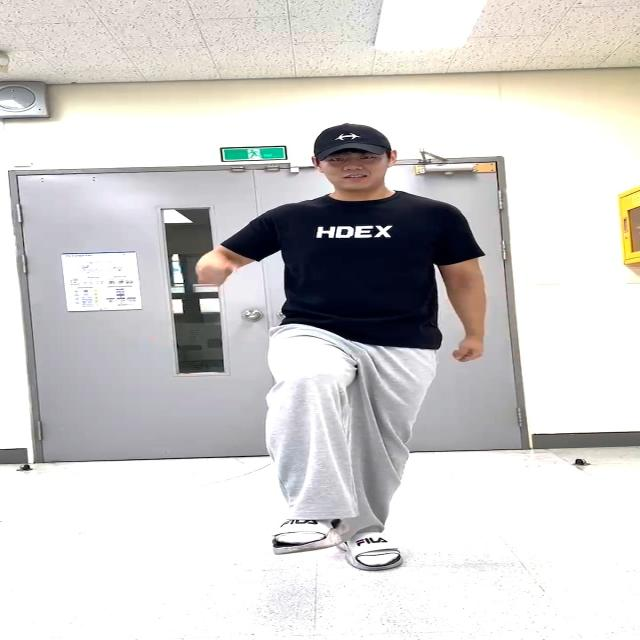leg: (270, 331, 348, 551)
